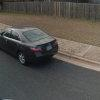Car: (5, 12, 56, 65)
